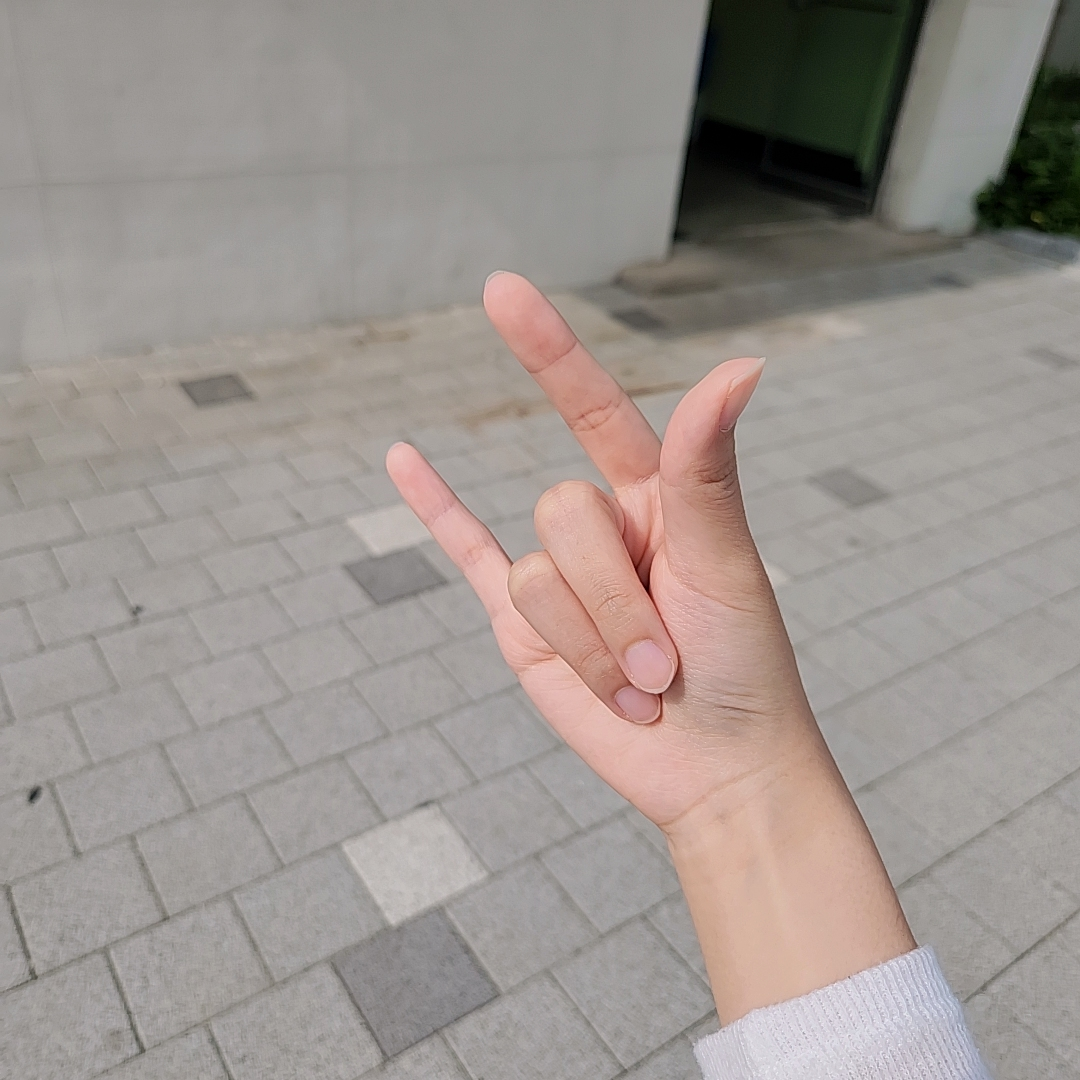iloveyou: (386, 272, 826, 819)
